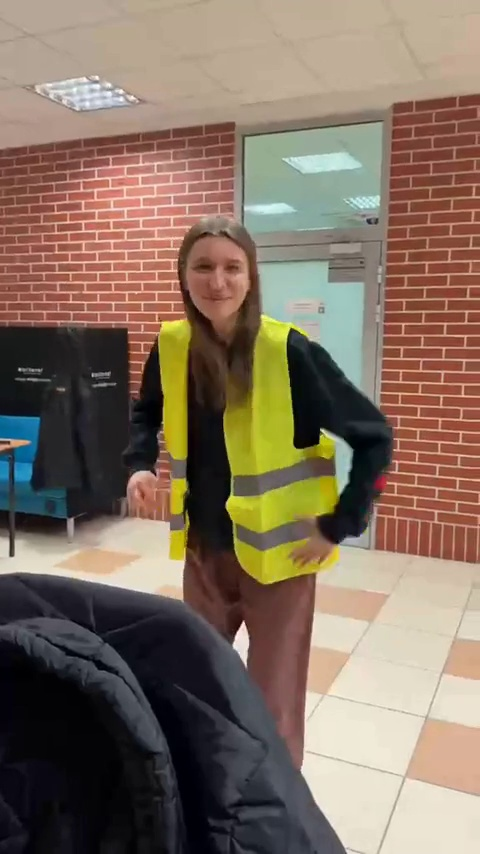vest: (138, 213, 371, 706)
